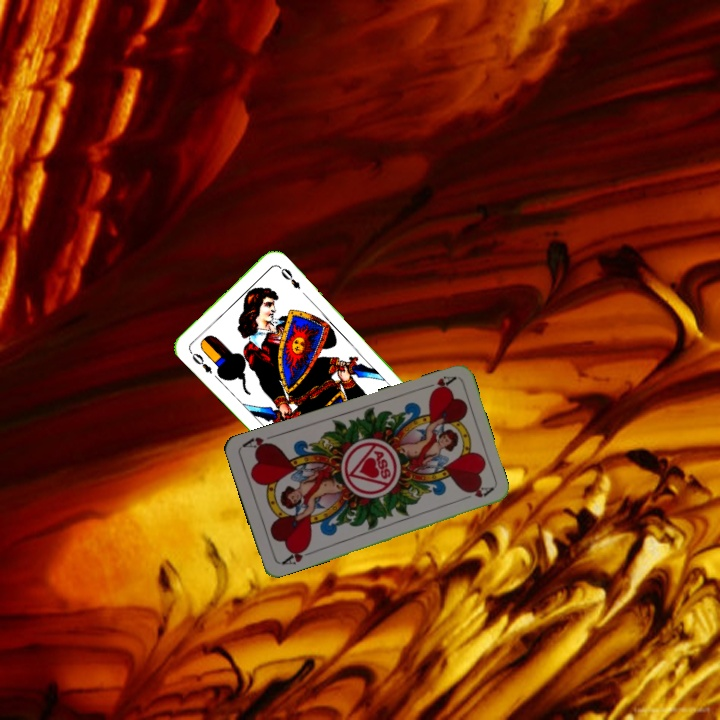EO: (185, 346, 215, 377)
HA: (418, 372, 458, 396), (278, 542, 316, 567)
